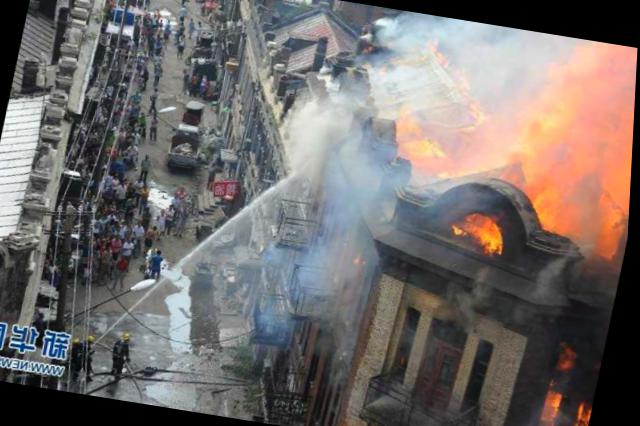fire: (328, 24, 638, 273), (538, 344, 587, 425), (576, 403, 597, 425)
